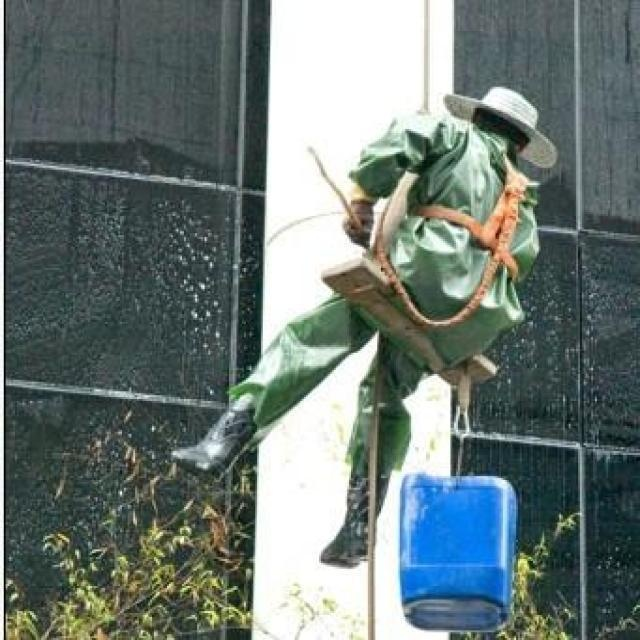Arnes_seguridad: (404, 114, 533, 287)
